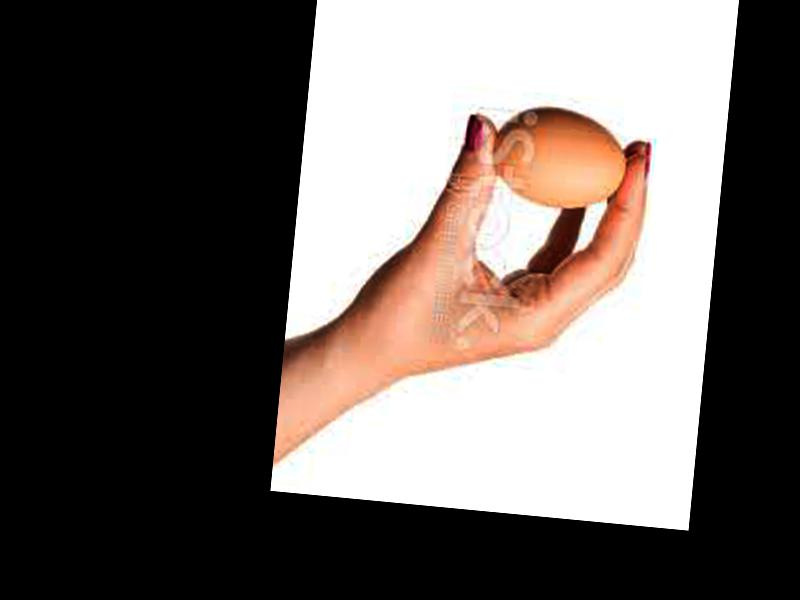Eggs: (488, 106, 629, 211)
